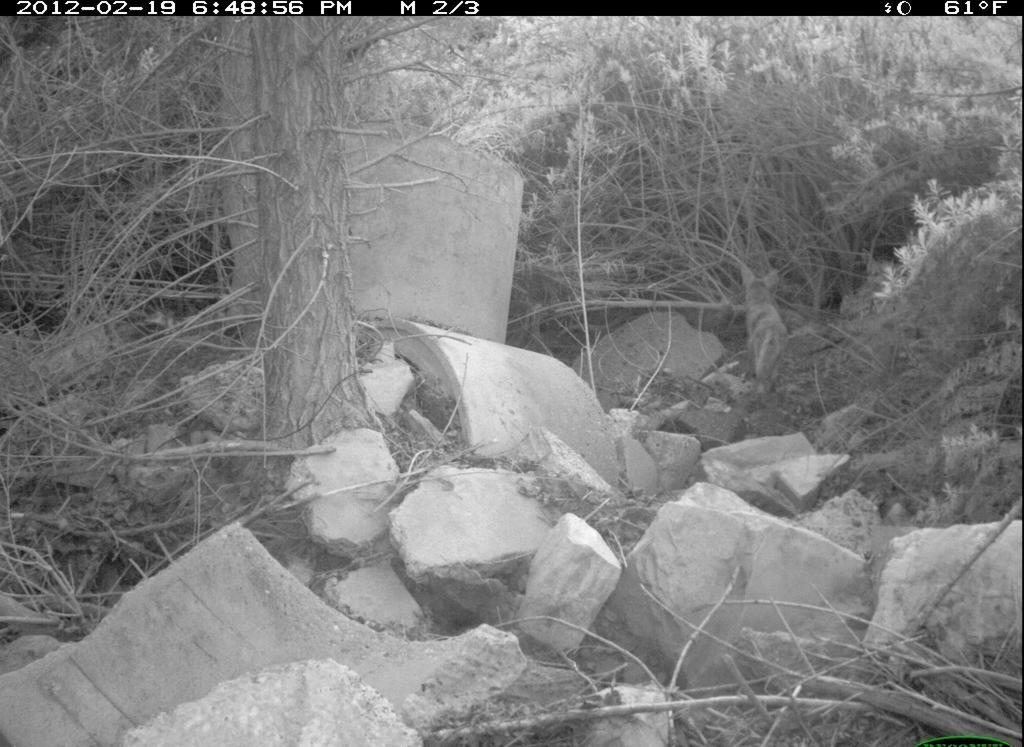coyote: (735, 257, 807, 408)
